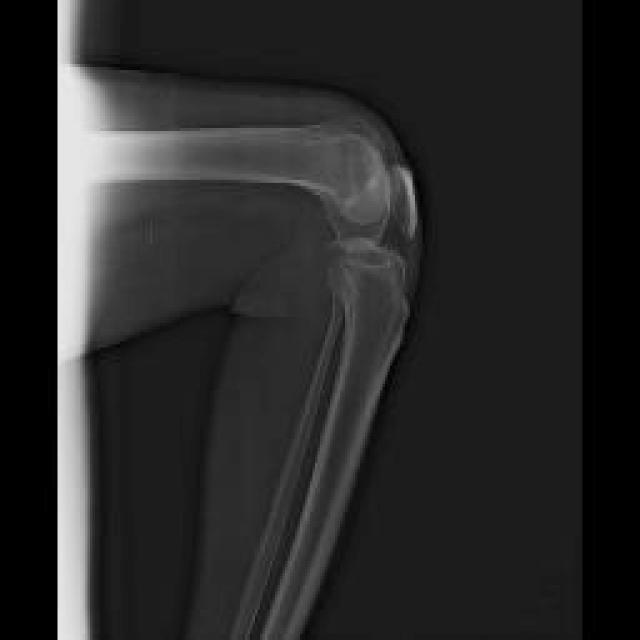normal: (91, 128, 416, 638)
